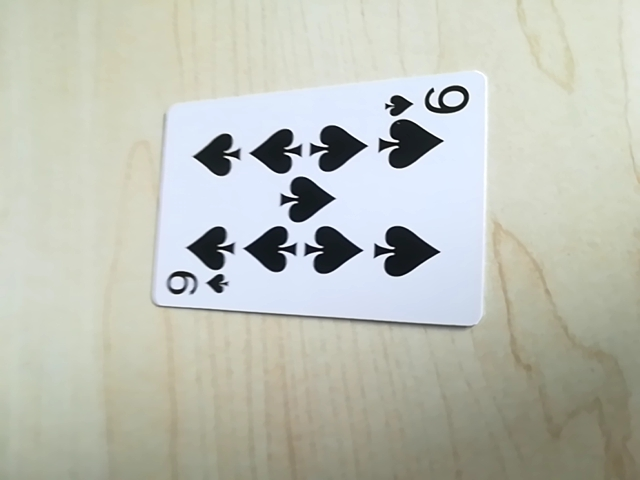ht 9: (383, 81, 471, 122), (159, 267, 232, 304)
